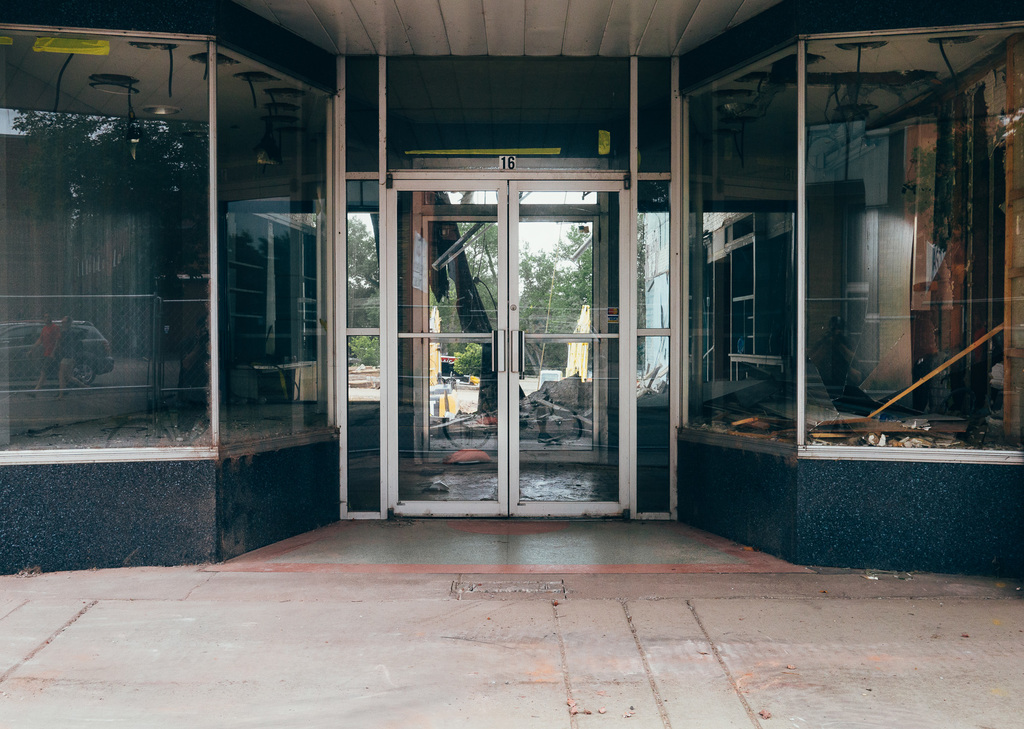door: (510, 189, 626, 511), (396, 185, 509, 513)
handle: (490, 320, 510, 384), (511, 325, 530, 386)
